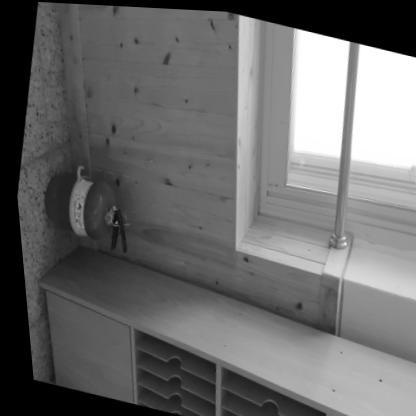FE: (30, 162, 134, 253)
